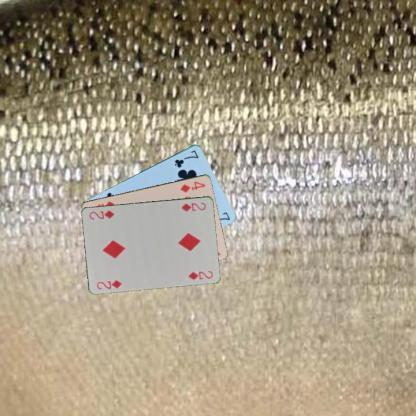2d: (94, 277, 123, 291), (178, 200, 208, 213)
4d: (177, 178, 207, 194)
7c: (172, 147, 200, 169)
